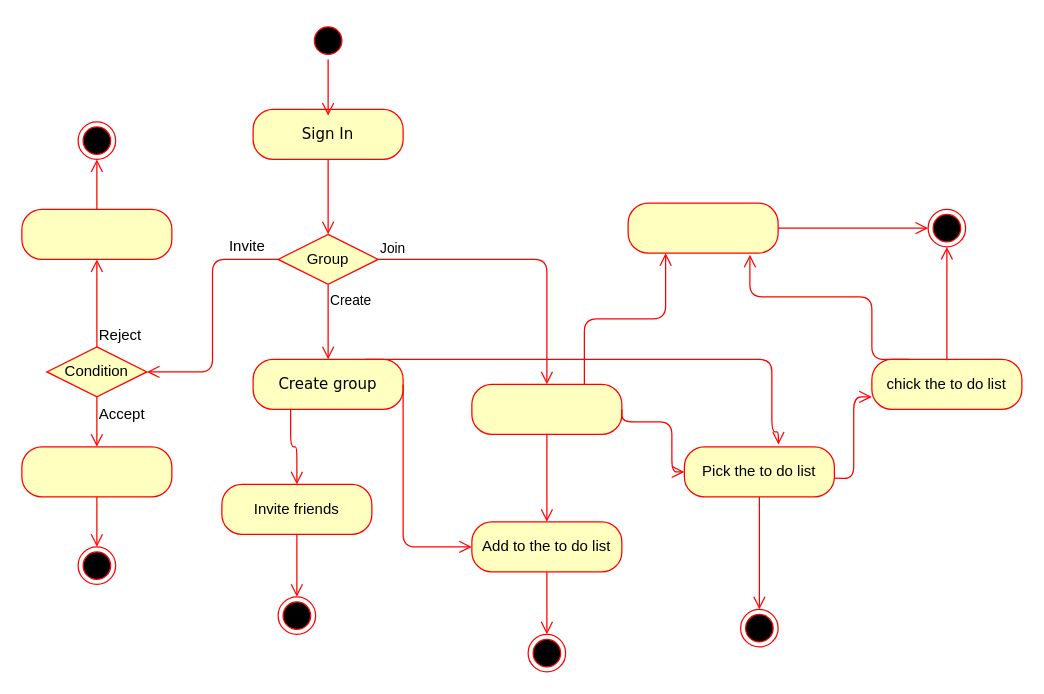
This 1044x694 diagram has some shape labels left out. The shapes that lost their labels are listed below. From the top down, each one's centre as x and y in pixels, then its label:
(96,233): Reject the invite
(702,227): Activity
(546,408): Join group
(96,471): Accept the invite
